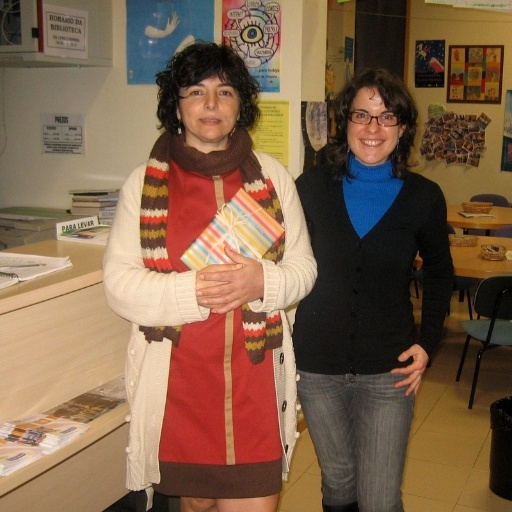hand: (193, 259, 243, 311), (389, 342, 430, 397)
